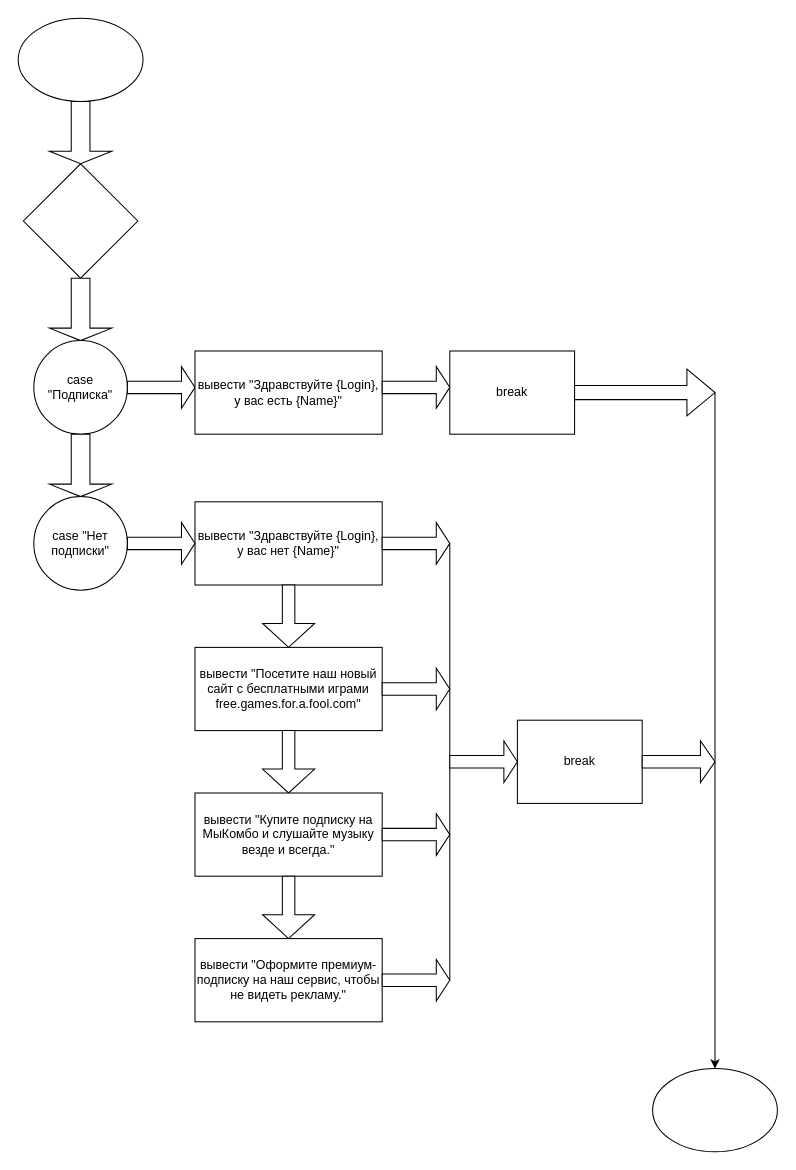
The diagram is 796 pixels wide and 1170 high, and some of its shapes have lost their labels. Here are the shapes that lost their labels. From the top down, the centre of each, then its label:
At [80,59]: "начало".
At [80,220]: "switch(name) считать name".
At [714,1110]: "конец".
